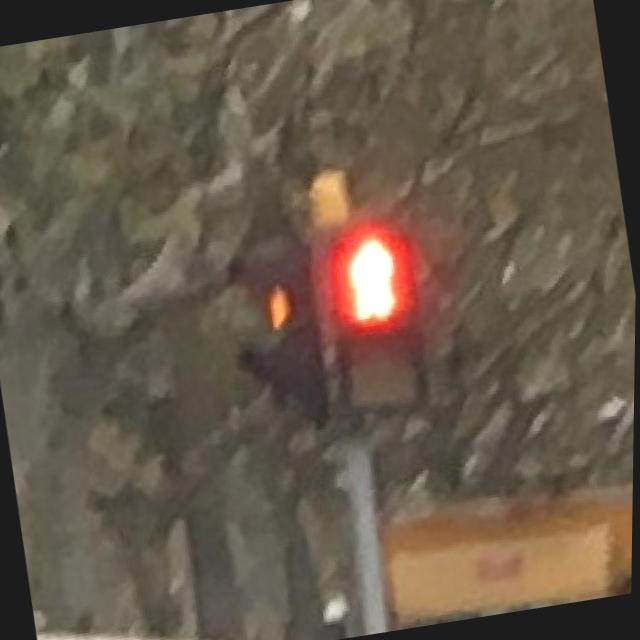red_light: (326, 222, 420, 330)
